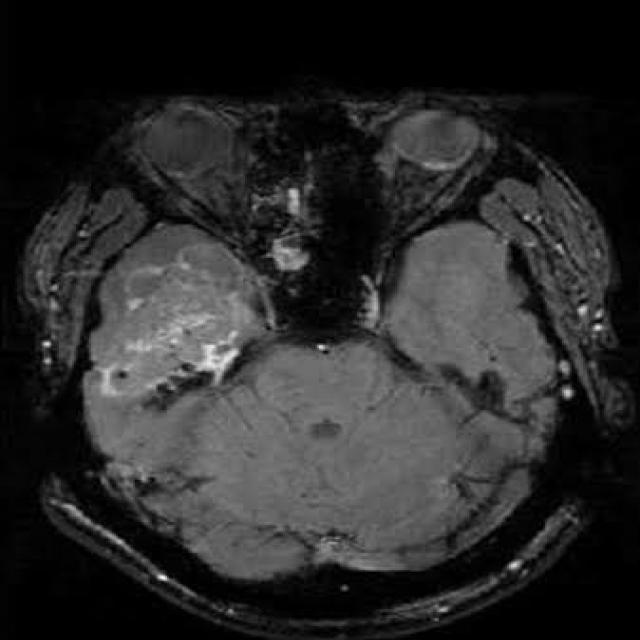glioma_tumor: (70, 228, 303, 409)
